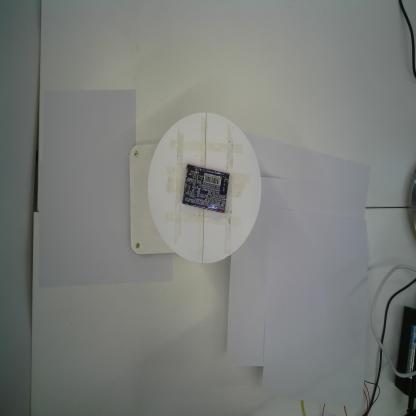Gum: (180, 163, 230, 214)
